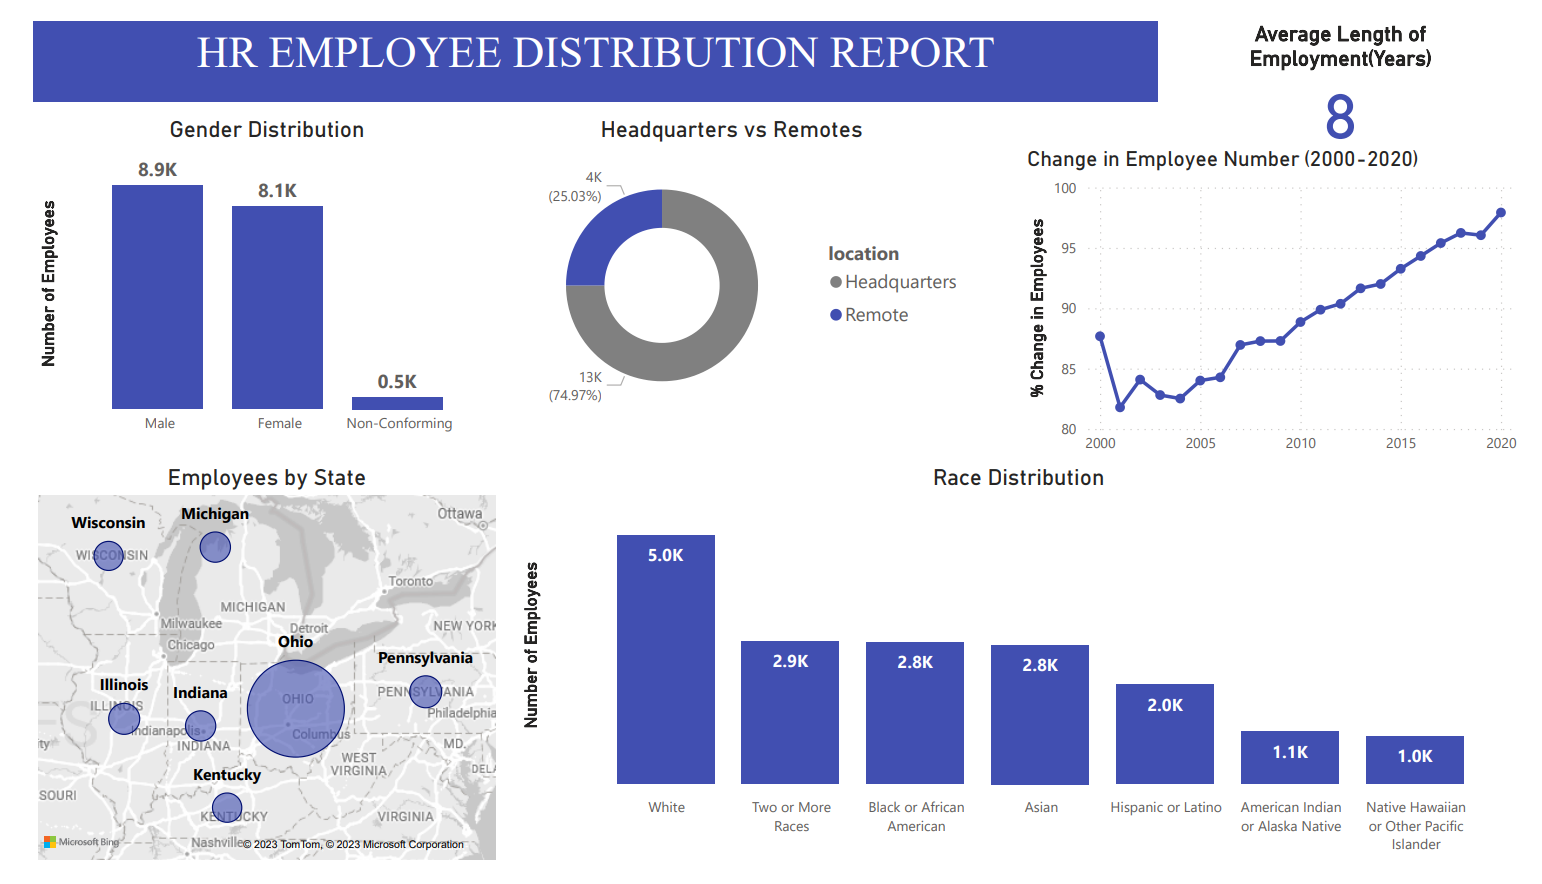

What the dashboard file says about the page in this screenshot:
{"tool":"powerbi","page":{"name":"Page 1","canvas":[1280,720],"ordinal":0},"visuals":[{"type":"textbox","box":[9.6,0,961.1,68.6],"z":0},{"type":"card","title":"Average Length of Employment(Years)","fields":{"Values":["Sum(avg_length_employment.avg_length_employment)"]},"box":[970.7,0,309.9,106.9],"z":1000},{"type":"columnChart","title":"Gender Distribution","fields":{"Y":["Sum(gender.count)"],"Category":["gender.gender"]},"box":[9.6,80.9,400.3,279.7],"z":2000},{"type":"donutChart","title":"Headquarters vs Remotes","fields":{"Y":["Sum(location.count)"],"Category":["location.location"]},"box":[400.3,80.9,412.7,267.4],"z":3000},{"type":"lineChart","title":"Change in Employee Number (2000-2020)","fields":{"Category":["emplyee_change.year"],"Y":["Sum(emplyee_change.net_change_percent)"]},"box":[854.2,106.9,426.4,271.5],"z":4000},{"type":"map","title":"Employees by State","fields":{"Size":["Sum(state.count)"],"Category":["state.location_state"]},"box":[9.6,378.4,400.3,341.4],"z":4001},{"type":"clusteredColumnChart","title":"Race Distribution","fields":{"Category":["race.race"],"Y":["Sum(race.count)"]},"box":[422.3,378.4,858.3,340],"z":4002}]}

Visuals, with their boxes in screenshot pixels (x1, y1, x2, y2), scaled from the page's 1280x720 canvas onto the 1542x884 screenshot:
textbox: [12, 0, 1169, 84]
"Average Length of Employment(Years)" card: [1169, 0, 1541, 131]
"Gender Distribution" columnChart: [12, 99, 494, 443]
"Headquarters vs Remotes" donutChart: [482, 99, 979, 428]
"Change in Employee Number (2000-2020)" lineChart: [1029, 131, 1541, 465]
"Employees by State" map: [12, 465, 494, 883]
"Race Distribution" clusteredColumnChart: [509, 465, 1541, 882]
